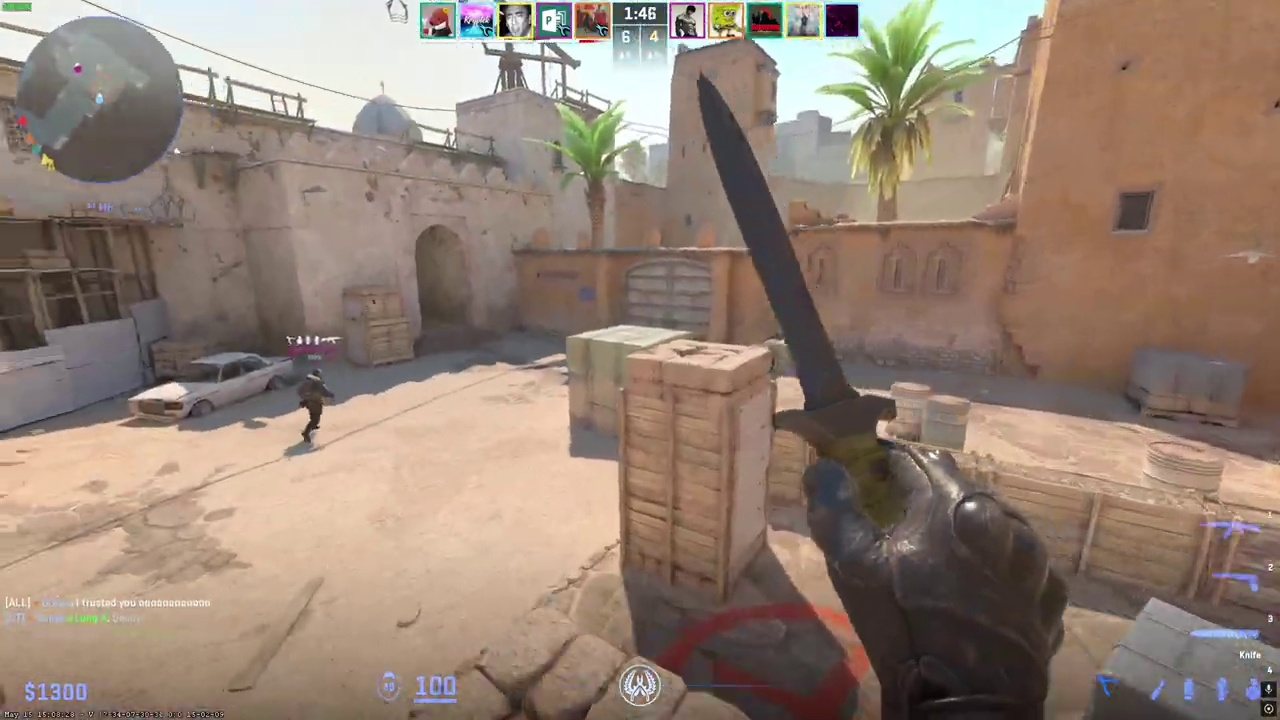CT: (296, 367, 329, 444)
